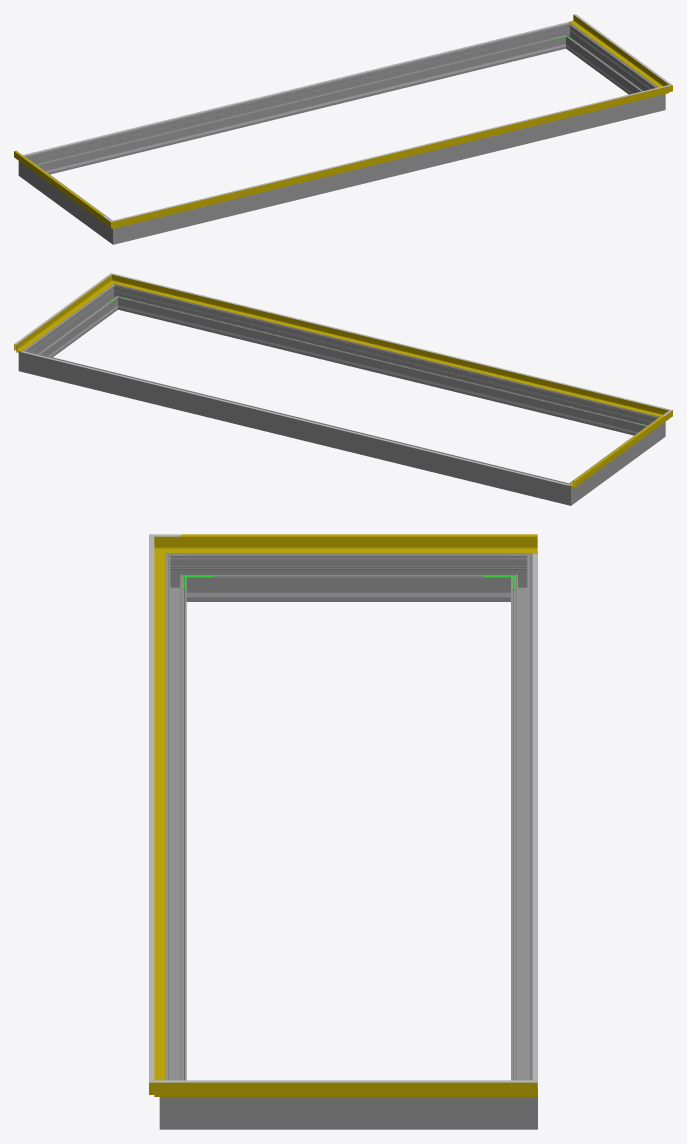
The picture shows the model from 3 angles, top to bottom: view 1: azimuth 30°, elevation 25°; view 2: azimuth 150°, elevation 25°; view 3: azimuth 270°, elevation 25°; orthographic projection. The views are drawn at different scales.
Parts seen in each view (by area): view 1: 3DGeom-277, 3DGeom-299, 3DGeom-56, 3DGeom-298, 3DGeom-245, 3DGeom-269, 3DGeom-221, 3DGeom-66, 3DGeom-58, 3DGeom-50, 3DGeom-271; view 2: 3DGeom-299, 3DGeom-277, 3DGeom-56, 3DGeom-298, 3DGeom-240, 3DGeom-269, 3DGeom-221, 3DGeom-58, 3DGeom-66, 3DGeom-50, 3DGeom-279; view 3: 3DGeom-269, 3DGeom-299, 3DGeom-277, 3DGeom-298, 3DGeom-50, 3DGeom-56, 3DGeom-58, 3DGeom-66, 3DGeom-221, 3DGeom-233, 3DGeom-285, 3DGeom-291 (+4 smaller).
Boxes of the visible parts, x1,y1,x2,y2 form: 3DGeom-277: (34, 25, 563, 174); 3DGeom-299: (127, 97, 651, 241); 3DGeom-56: (124, 88, 658, 225); 3DGeom-298: (567, 27, 654, 94); 3DGeom-245: (50, 47, 552, 171); 3DGeom-269: (26, 161, 109, 238); 3DGeom-221: (23, 22, 569, 155); 3DGeom-66: (124, 87, 658, 218); 3DGeom-58: (569, 15, 662, 86); 3DGeom-50: (14, 151, 102, 221); 3DGeom-271: (105, 218, 127, 244); 3DGeom-299: (120, 287, 650, 435); 3DGeom-277: (32, 353, 559, 502); 3DGeom-56: (121, 277, 657, 415); 3DGeom-298: (29, 289, 116, 357); 3DGeom-240: (131, 308, 633, 432); 3DGeom-269: (575, 422, 657, 499); 3DGeom-221: (21, 351, 569, 485); 3DGeom-58: (14, 280, 109, 352); 3DGeom-66: (124, 276, 658, 407); 3DGeom-50: (569, 416, 664, 488); 3DGeom-279: (557, 479, 578, 505); 3DGeom-269: (192, 553, 505, 601); 3DGeom-299: (165, 565, 186, 1080); 3DGeom-277: (511, 565, 532, 1080); 3DGeom-298: (192, 1097, 505, 1129); 3DGeom-50: (181, 536, 537, 553); 3DGeom-56: (154, 559, 164, 1080); 3DGeom-58: (181, 1082, 537, 1096); 3DGeom-66: (149, 548, 154, 1068); 3DGeom-221: (533, 553, 537, 1087); 3DGeom-233: (218, 592, 479, 597); 3DGeom-285: (505, 1076, 537, 1129); 3DGeom-291: (159, 1076, 191, 1129).
Bounding box in the file's own units: 6.1 × 0.2669 × 1.83.
